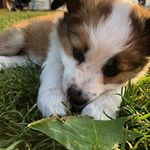puppy: (31, 1, 149, 122)
